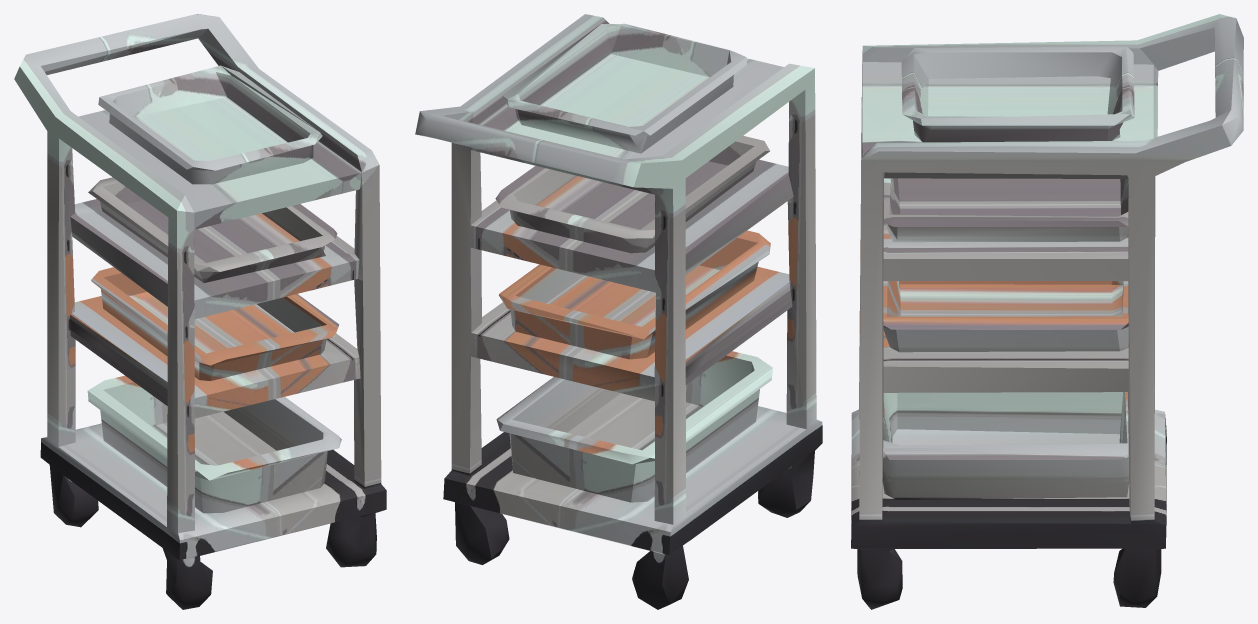
The picture shows the model from 3 angles, left to right: view 1: azimuth 30°, elevation 25°; view 2: azimuth 150°, elevation 25°; view 3: azimuth 270°, elevation 25°; orthographic projection. The views are drawn at different scales.
Visible parts, largest first — view 1: Decor_tray_trolley; view 2: Decor_tray_trolley; view 3: Decor_tray_trolley.
Part boxes in pixels (<box>): Decor_tray_trolley: <box>14,14,386,609</box>; Decor_tray_trolley: <box>415,14,822,609</box>; Decor_tray_trolley: <box>851,14,1243,609</box>.
Size of the model in its own units: 0.6936 by 1.4 by 1.01.
1 material, 1 textured.
